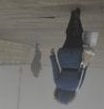person: (50, 7, 100, 105), (31, 42, 43, 79)
